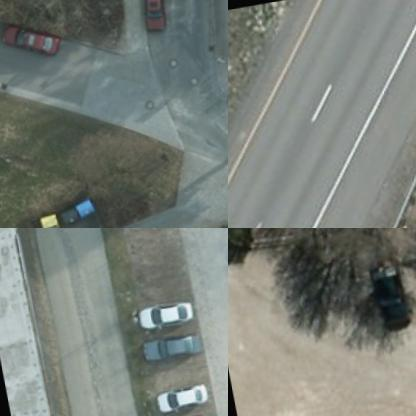car: (0, 16, 63, 67), (141, 335, 200, 364), (139, 303, 194, 332), (147, 390, 209, 415), (139, 0, 173, 43)
pickup: (364, 262, 410, 336)
